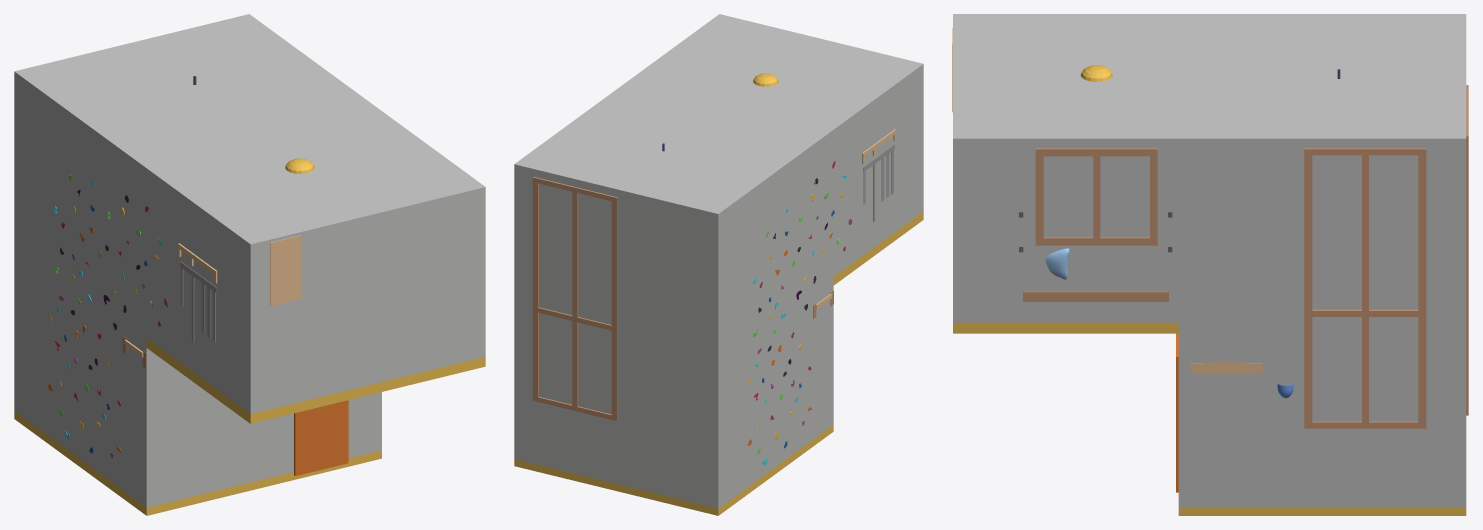
Rendered from climberroomfinal_2yellowfloor_tochgreywall3.fbx.
3 views of the same model, side by side, from view 1: azimuth 30°, elevation 25°; view 2: azimuth 150°, elevation 25°; view 3: azimuth 270°, elevation 25° (orthographic). The views are drawn at different scales.
Parts seen in each view (by area): view 1: Cube_Room.001, Cube_Door.001, Cylinder.PegBoard.001, Cube_EquipmentRack.001; view 2: Cube_Room.001, Cube_Window.001, Cube_EquipmentRack.001; view 3: Cube_Room.001, Cube_Window.002, Cube_Window.003, Cube_Bed.001, Cube_Window.001, Plane_Fingerboard.
Boxes of the visible parts, x1,y1,x2,y2 form: Cube_Room.001: (14, 14, 485, 515); Cube_Door.001: (294, 400, 348, 475); Cylinder.PegBoard.001: (270, 235, 300, 306); Cube_EquipmentRack.001: (180, 261, 216, 342); Cube_Room.001: (514, 14, 923, 515); Cube_Window.001: (532, 176, 617, 420); Cube_EquipmentRack.001: (863, 144, 894, 221); Cube_Room.001: (953, 14, 1466, 515); Cube_Window.002: (1304, 148, 1426, 428); Cube_Window.003: (1035, 148, 1157, 245); Cube_Bed.001: (1023, 291, 1168, 301); Cube_Window.001: (1466, 85, 1468, 415); Plane_Fingerboard: (1190, 361, 1262, 372).
Size of the model in its own units: 3250 by 4600 by 5575.
